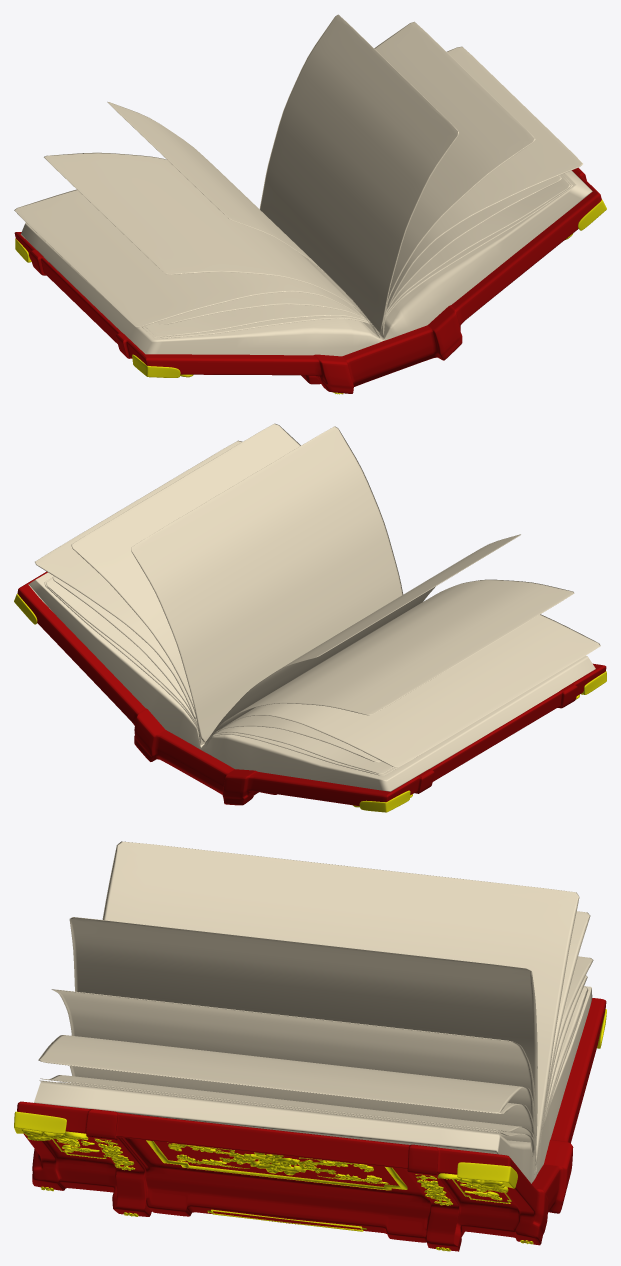
The model's file is book_low.fbx.
3 views of the same model, one above another, from view 1: azimuth 30°, elevation 25°; view 2: azimuth 150°, elevation 25°; view 3: azimuth 270°, elevation 25° (orthographic). The views are drawn at different scales.
Parts seen in each view (by area): view 1: pages, book_main, ornaments; view 2: pages, book_main, ornaments; view 3: pages, book_main, ornaments.
Boxes of the visible parts, x1,y1,x2,y2 form: pages: (14, 14, 592, 356); book_main: (14, 167, 601, 393); ornaments: (15, 199, 606, 394); pages: (28, 423, 600, 791); book_main: (17, 571, 606, 806); ornaments: (14, 593, 606, 812); pages: (34, 841, 593, 1183); book_main: (17, 998, 606, 1251); ornaments: (14, 1009, 606, 1251).
Bounding box in the file's own units: 12.03 × 6.19 × 9.52.
